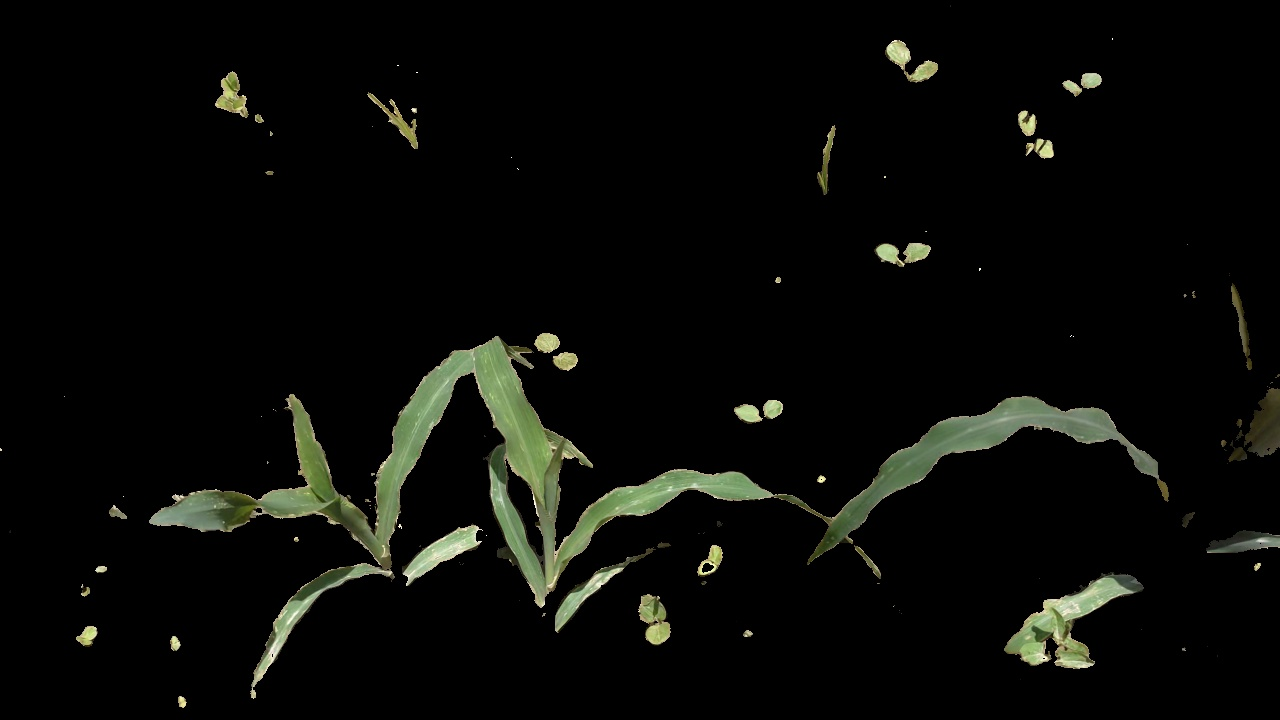crop: (877, 285, 1280, 630), (476, 353, 886, 665), (154, 384, 450, 643)
weed: (221, 61, 291, 149), (1015, 621, 1098, 679), (880, 24, 944, 91), (630, 588, 688, 659), (372, 92, 443, 149), (720, 385, 789, 432), (1017, 97, 1062, 168), (809, 113, 838, 210), (878, 234, 940, 274), (1057, 61, 1106, 98), (685, 546, 729, 581), (67, 627, 111, 649)
